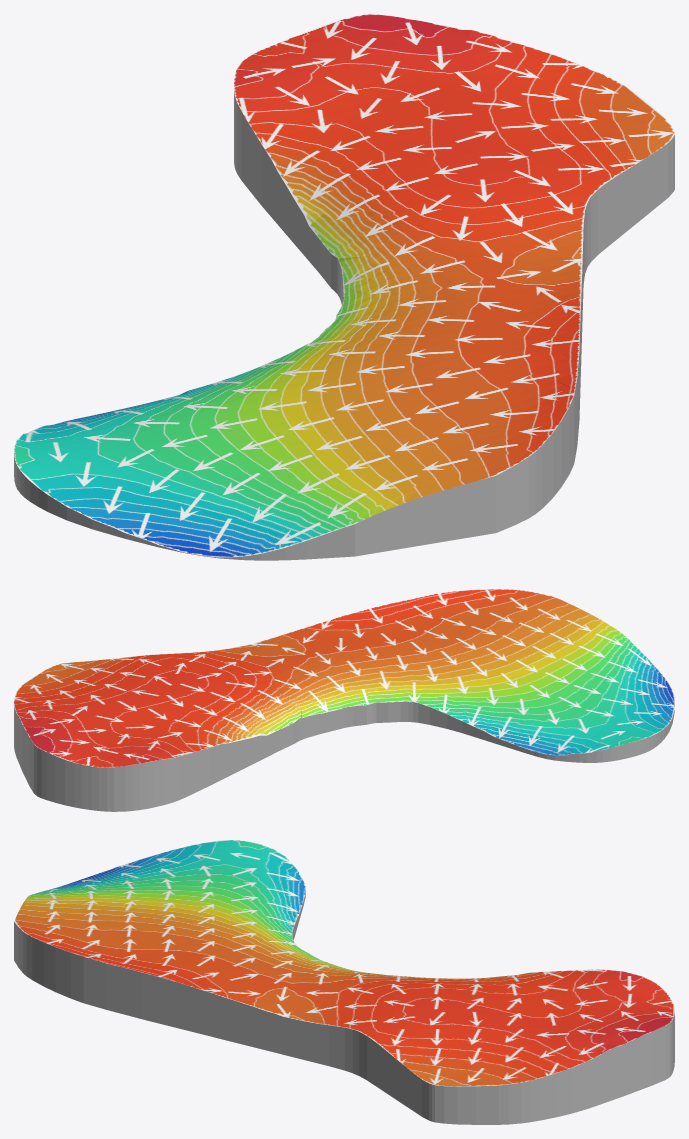
3 views of the same model, one above another, from view 1: azimuth 30°, elevation 25°; view 2: azimuth 150°, elevation 25°; view 3: azimuth 270°, elevation 25° (orthographic). The views are drawn at different scales.
Size of the model in its own units: 8.29 by 0.778 by 8.59.
Materials: 2 (1 with a texture image).
